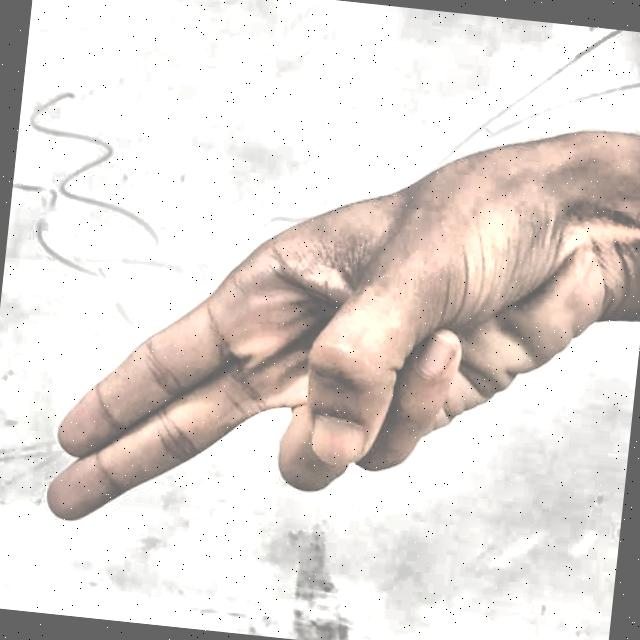Ha: (12, 86, 604, 618)
